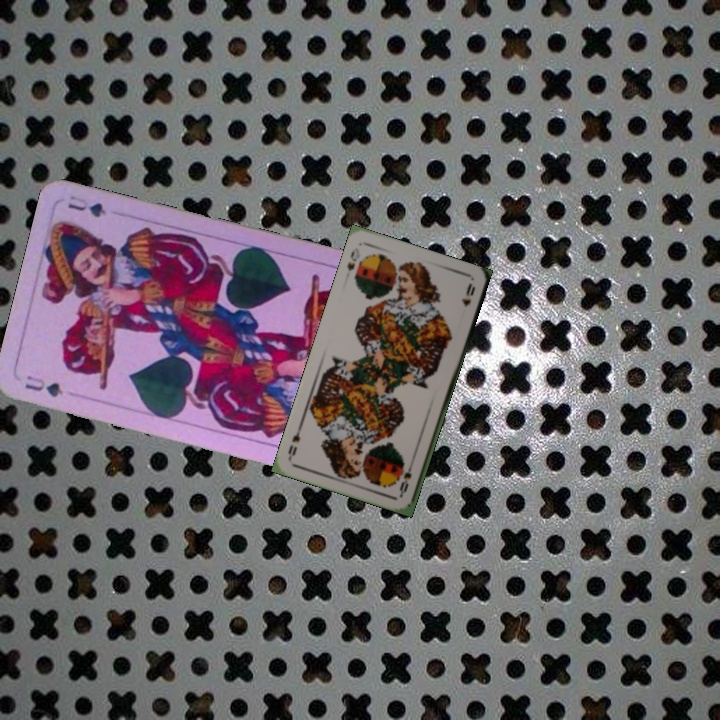GU: (21, 371, 66, 400)
SO: (395, 458, 416, 497), (343, 244, 363, 274)
